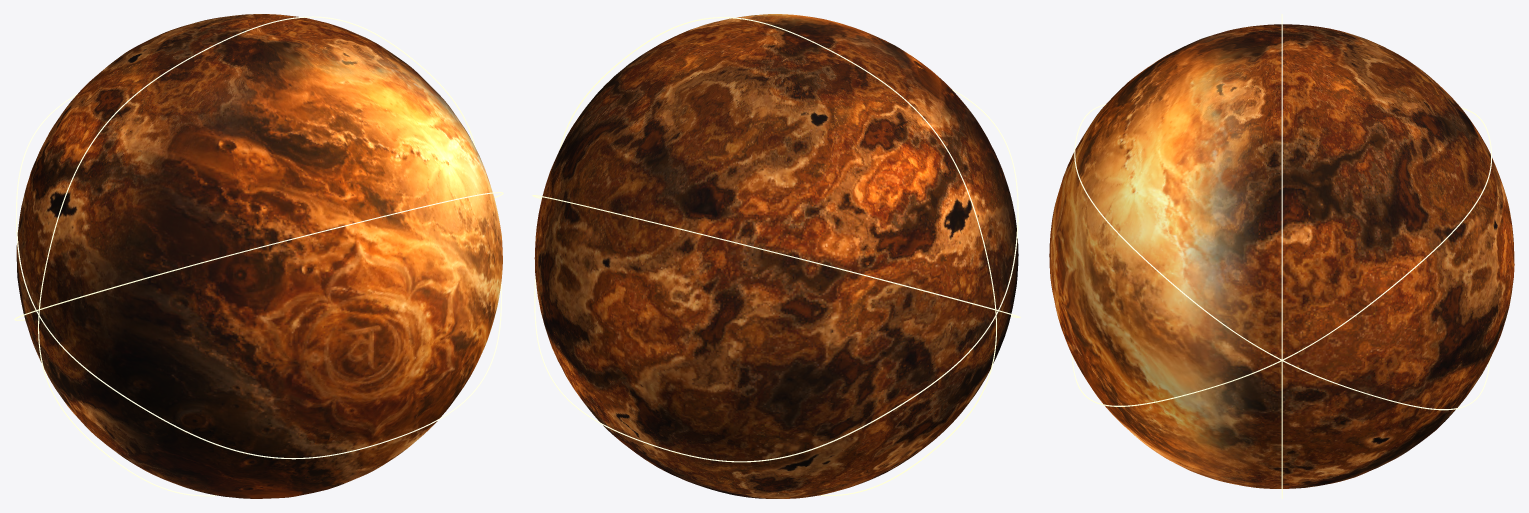
File: art.glb
3 renders of one model, left to right at view 1: azimuth 30°, elevation 25°; view 2: azimuth 150°, elevation 25°; view 3: azimuth 270°, elevation 25°, orthographic. The views are drawn at different scales.
Parts seen in each view (by area): view 1: Surface, Energy Filaments; view 2: Surface, Energy Filaments; view 3: Surface, Energy Filaments.
Boxes of the visible parts, x1,y1,x2,y2 form: Surface: [16, 14, 502, 498]; Energy Filaments: [14, 16, 503, 496]; Surface: [534, 14, 1018, 498]; Energy Filaments: [532, 17, 1020, 495]; Surface: [1049, 24, 1514, 488]; Energy Filaments: [1072, 14, 1491, 498].
Size of the model in its own units: 2.12 by 2.1 by 2.
Materials: 2 (1 with a texture image).
